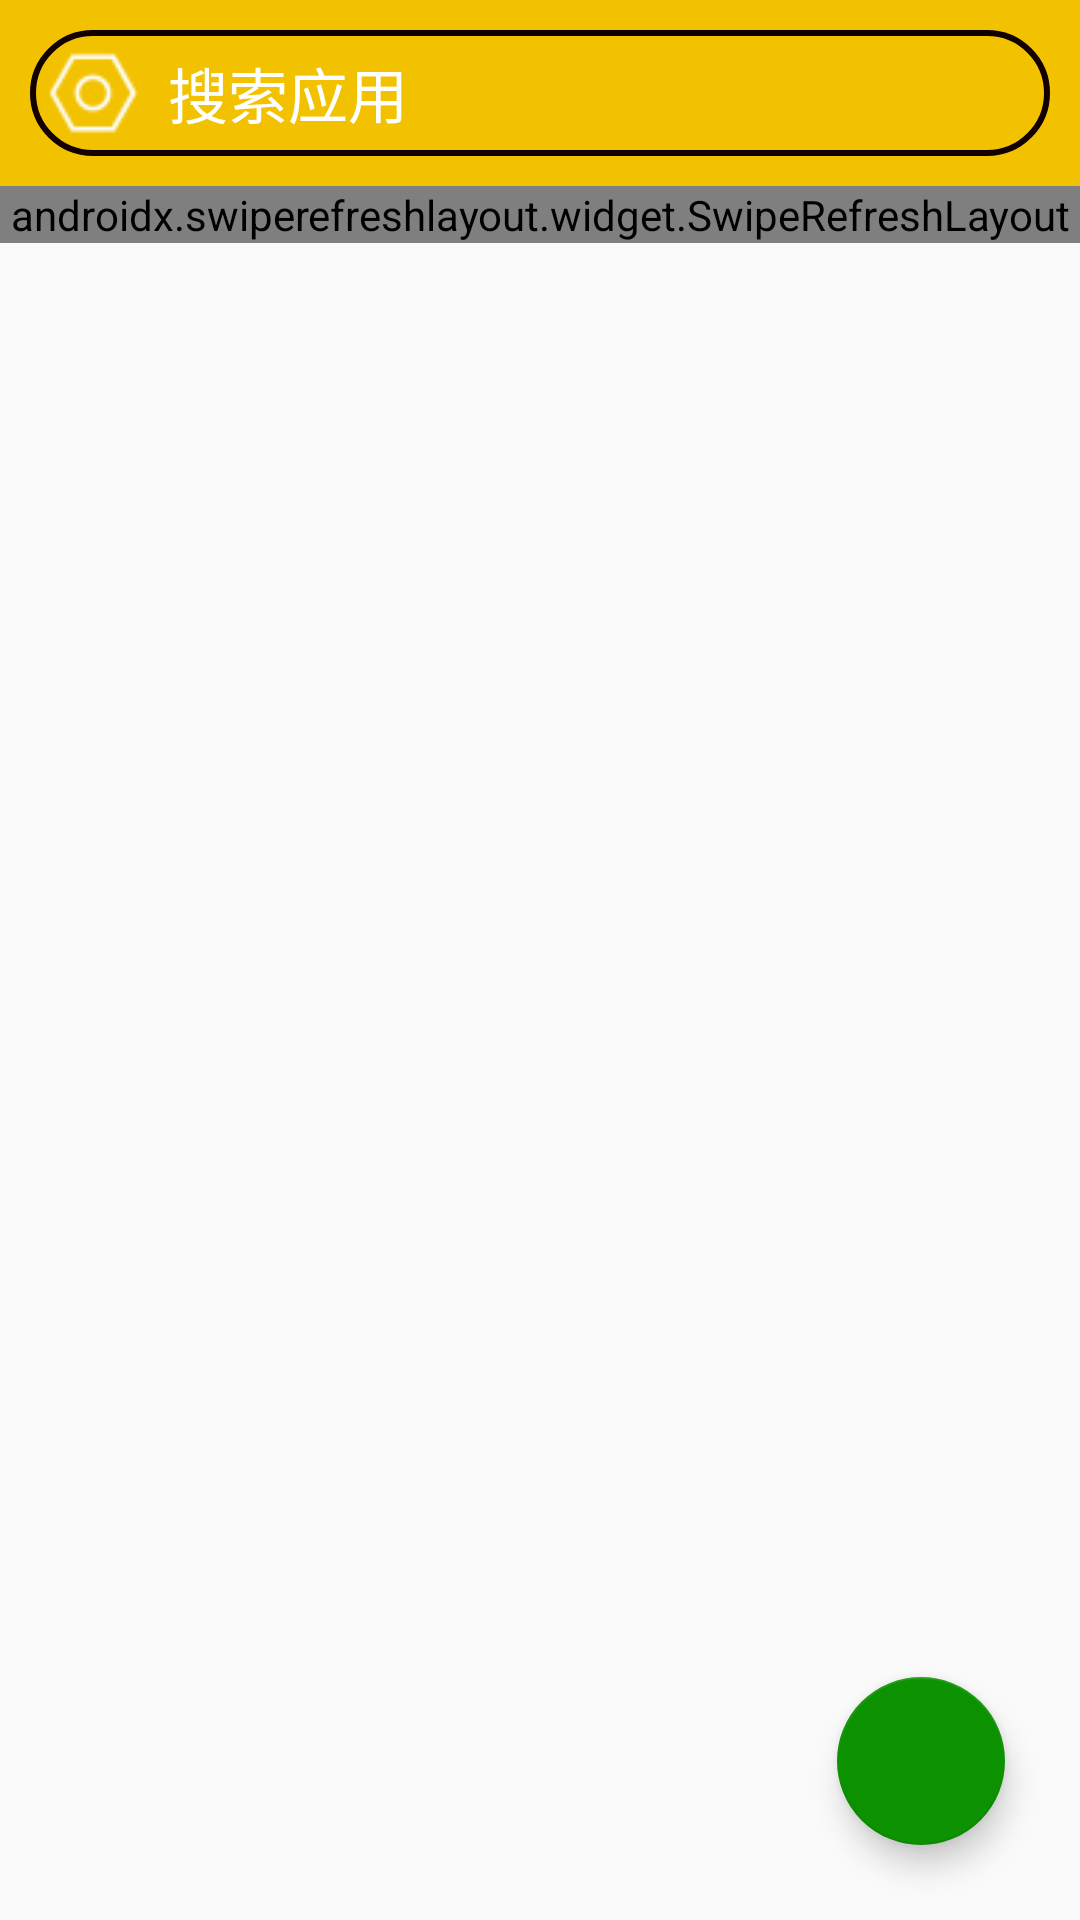

Screen size 1080 x 1920. Icon name, then its box in pixels as (x1, y1, x2, y2):
shezhi my: (49, 53, 138, 133)
